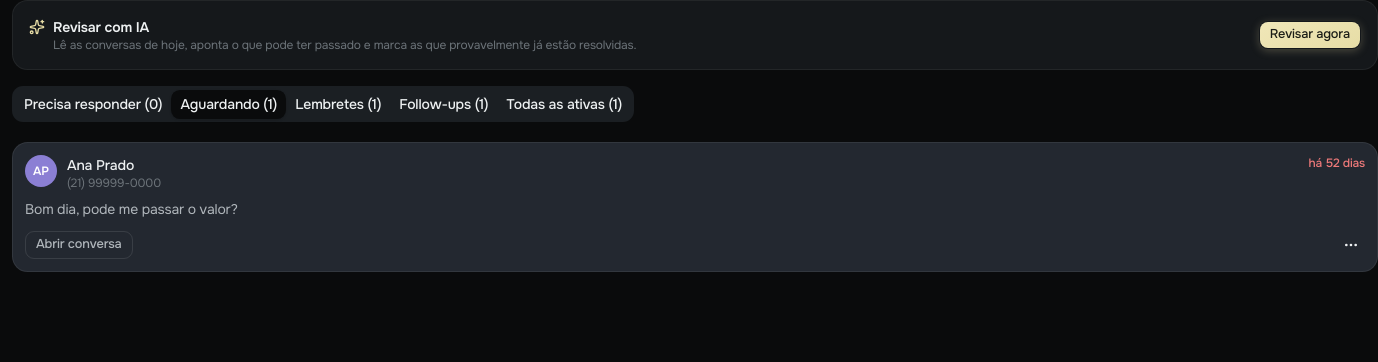
Central de pendências unificada › mostra a análise que veio quando só uma das leituras falha
Click the button "Revisar agora": point(1310, 35) [1259,21,1361,49]
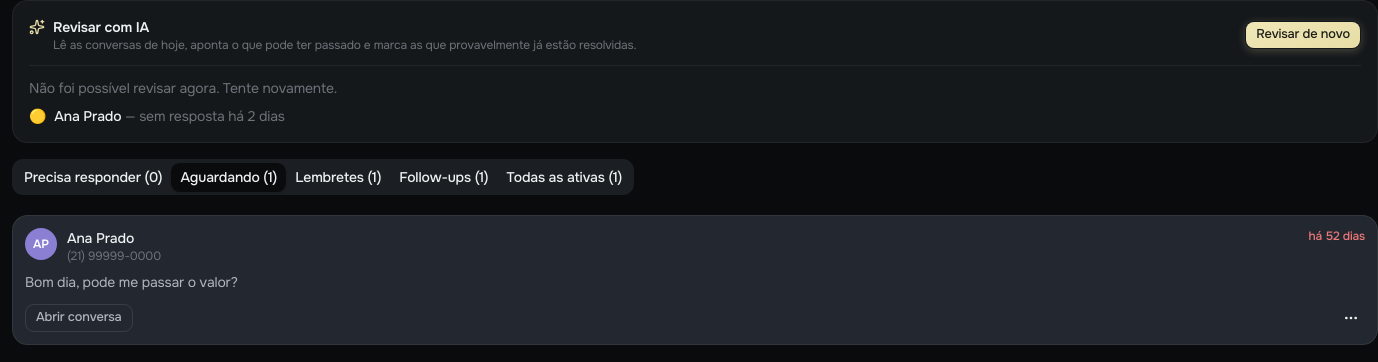
expect the text "— sem resposta há 2 dias" is shown: met, box [121,107,285,125]
expect the text "Não foi possível revisar agora. Tente novamente." is shown: met, box [29,79,337,97]
